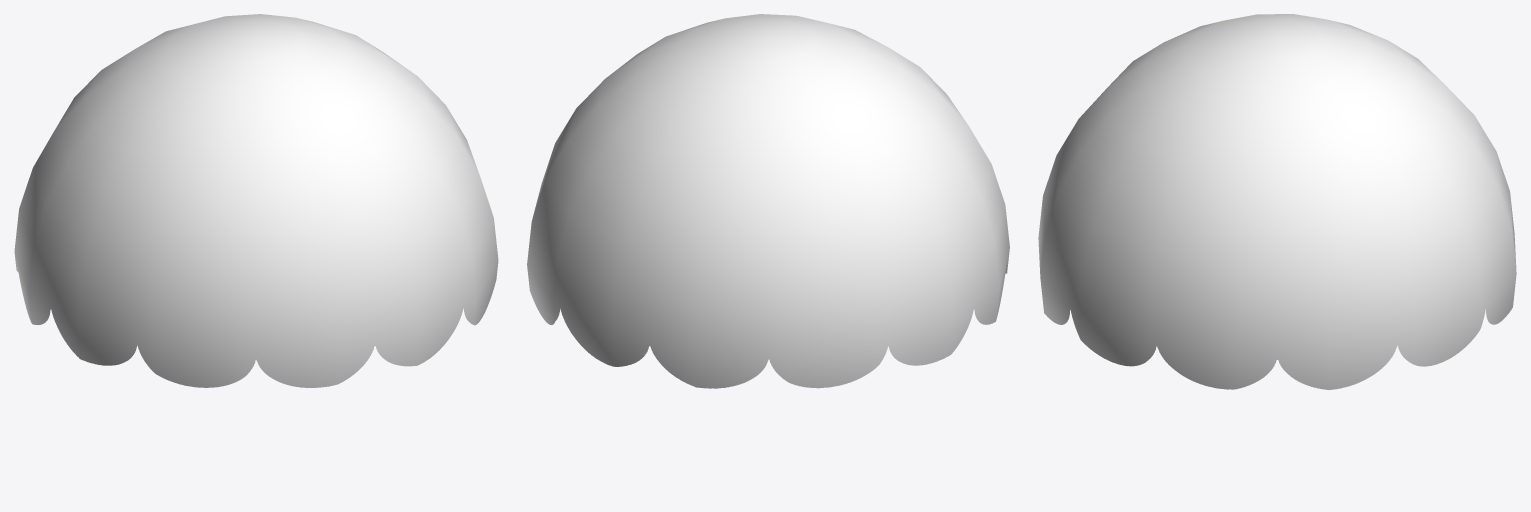
File: TreeSnowUp.fbx
3 views of the same model, side by side, from view 1: azimuth 30°, elevation 25°; view 2: azimuth 150°, elevation 25°; view 3: azimuth 270°, elevation 25° (orthographic).
Visible parts, largest first — view 1: TreeSnow; view 2: TreeSnow; view 3: TreeSnow.
Part boxes in pixels (left/top/right/bottom): TreeSnow: left=14, top=14, right=498, bottom=387; TreeSnow: left=527, top=14, right=1009, bottom=388; TreeSnow: left=1038, top=14, right=1516, bottom=389.
Bounding box in the file's own units: 1.04 × 1.06 × 1.04.
Materials: 1 (1 with a texture image).
